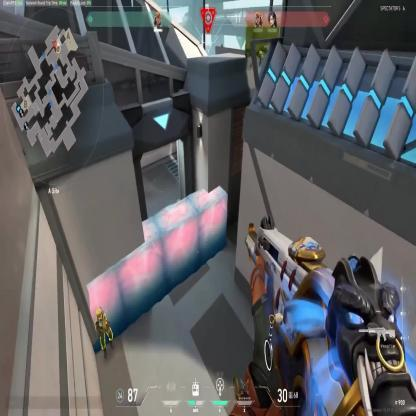enemy: (94, 306, 114, 359)
enemy_head: (96, 306, 102, 320)
